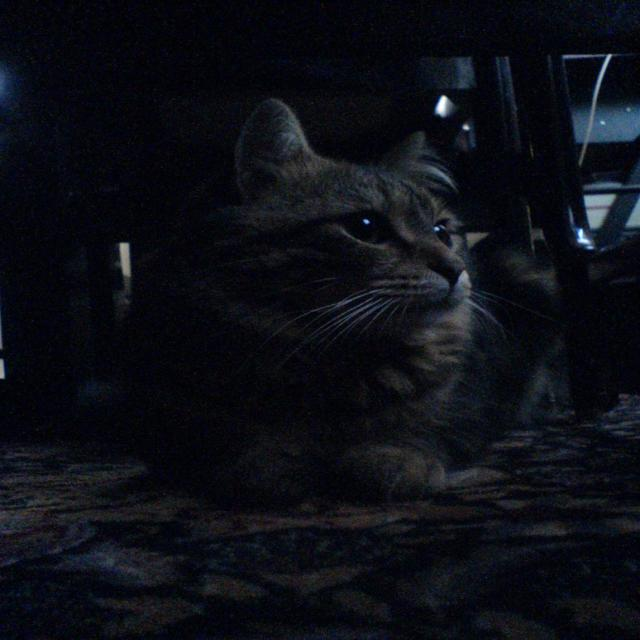Cat: (146, 92, 598, 517)
